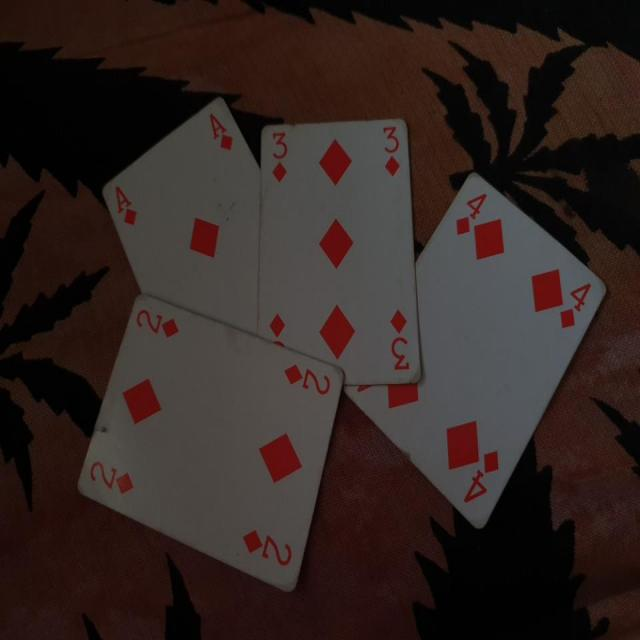2 Diamonds: (70, 292, 342, 604)
3 Diamonds: (260, 120, 423, 392)
4 Diamonds: (344, 166, 612, 530)
A Diamonds: (99, 90, 267, 325)
